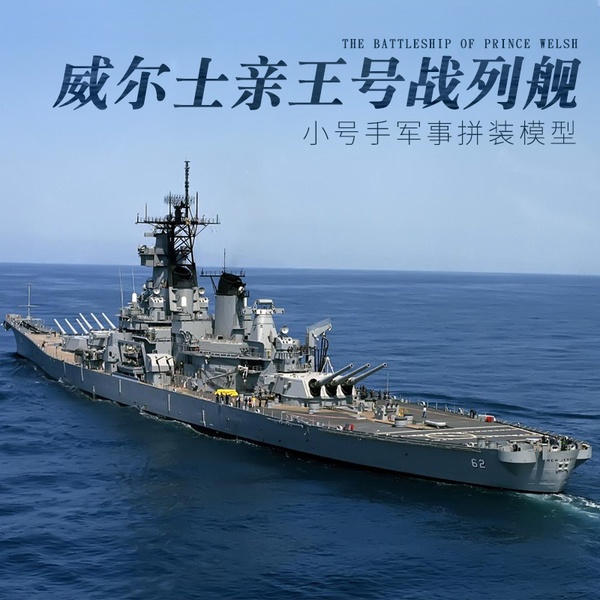warship: (11, 165, 592, 499)
